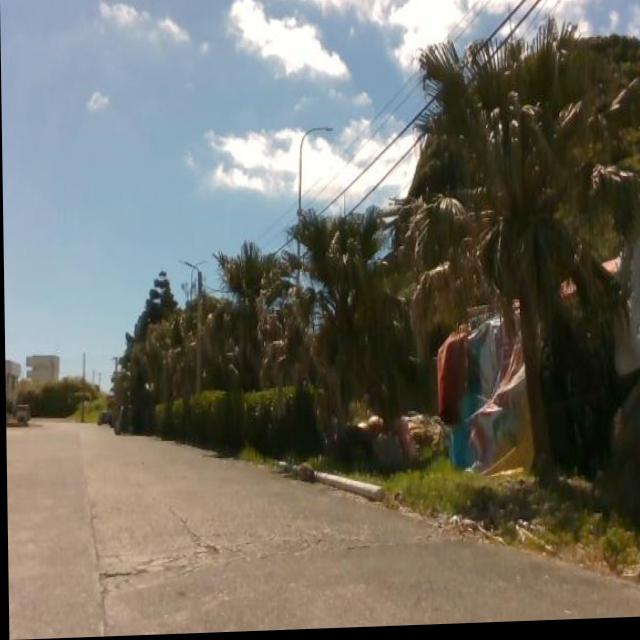pollute: (269, 241, 640, 508)
